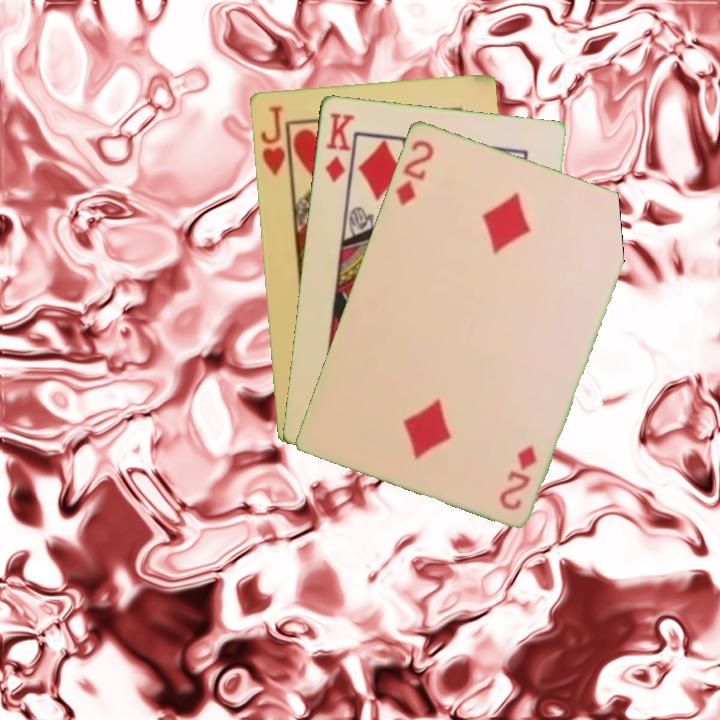2d: (391, 135, 436, 208), (496, 440, 539, 513)
Jh: (257, 102, 288, 178)
Kd: (321, 109, 357, 185)
